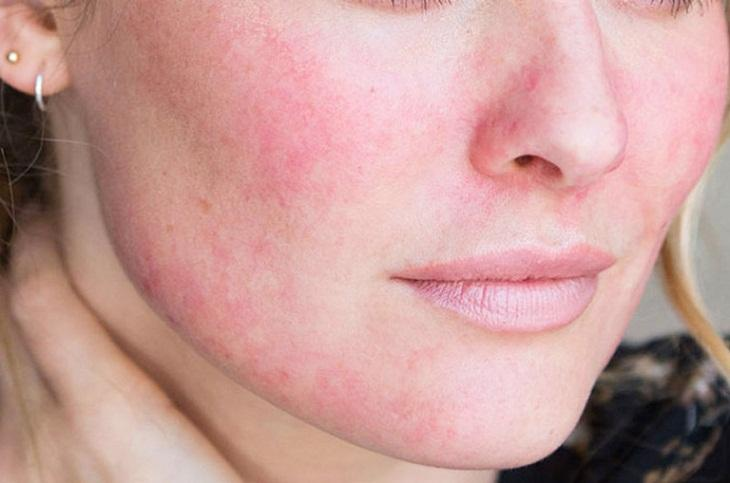Skin-Redness: (143, 0, 358, 243)
